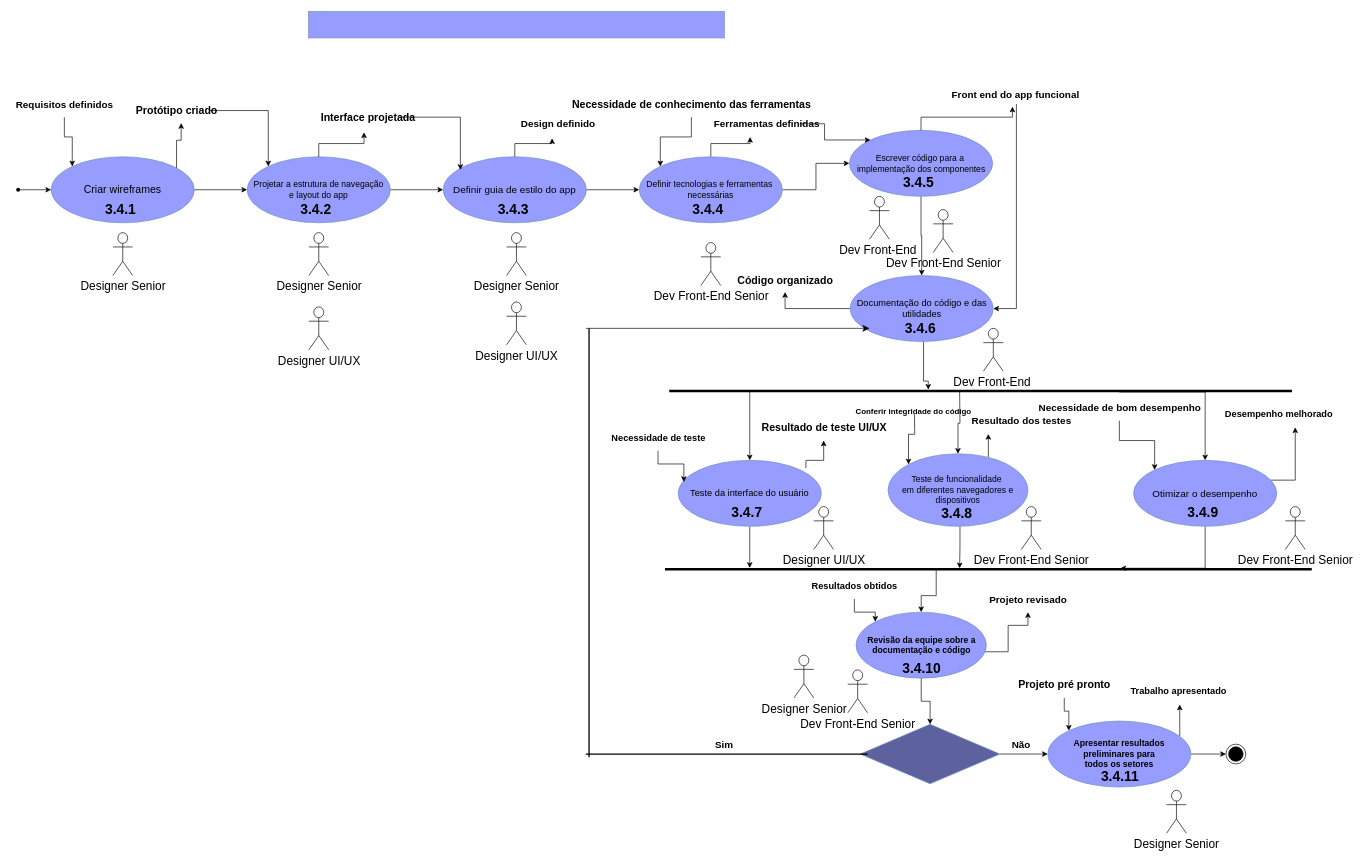
Image size: 1364x864. Some labels were removed from this diagram. Each missing label, with the centre of its shape:
"Há inconsistências?" belongs at (x=930, y=754).
"Subfluxo da atividade 3.4: Desenvolver front-end" belongs at (x=516, y=24).
